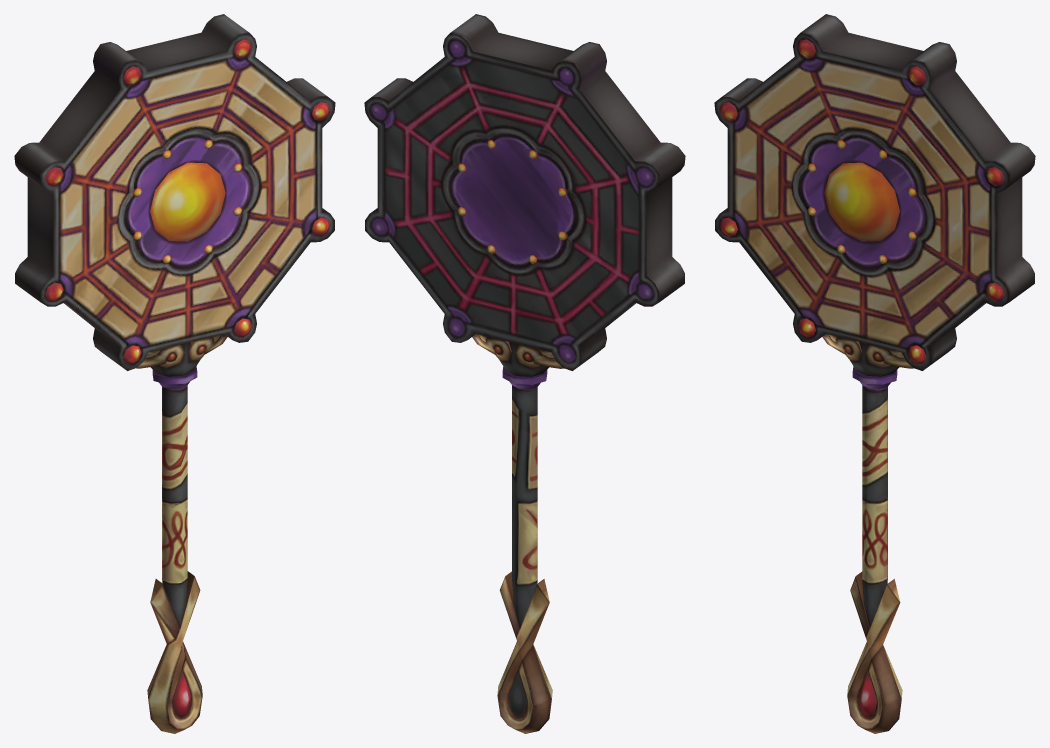
File: Hero_Ell_Cos17Halloween_Weapon.fbx
The picture shows the model from 3 angles, left to right: view 1: azimuth 30°, elevation 25°; view 2: azimuth 150°, elevation 25°; view 3: azimuth 330°, elevation 25°; orthographic projection.
Parts seen in each view (by area): view 1: Hero_Ell_Cos17Halloween_Weapon; view 2: Hero_Ell_Cos17Halloween_Weapon; view 3: Hero_Ell_Cos17Halloween_Weapon.
Part boxes in pixels (x1,y1,x2,y2): Hero_Ell_Cos17Halloween_Weapon: (14, 14, 335, 733); Hero_Ell_Cos17Halloween_Weapon: (364, 14, 685, 733); Hero_Ell_Cos17Halloween_Weapon: (714, 14, 1035, 733).
Bounding box in the file's own units: 0.3305 × 0.7432 × 0.0685.
Materials: 1 (1 with a texture image).
